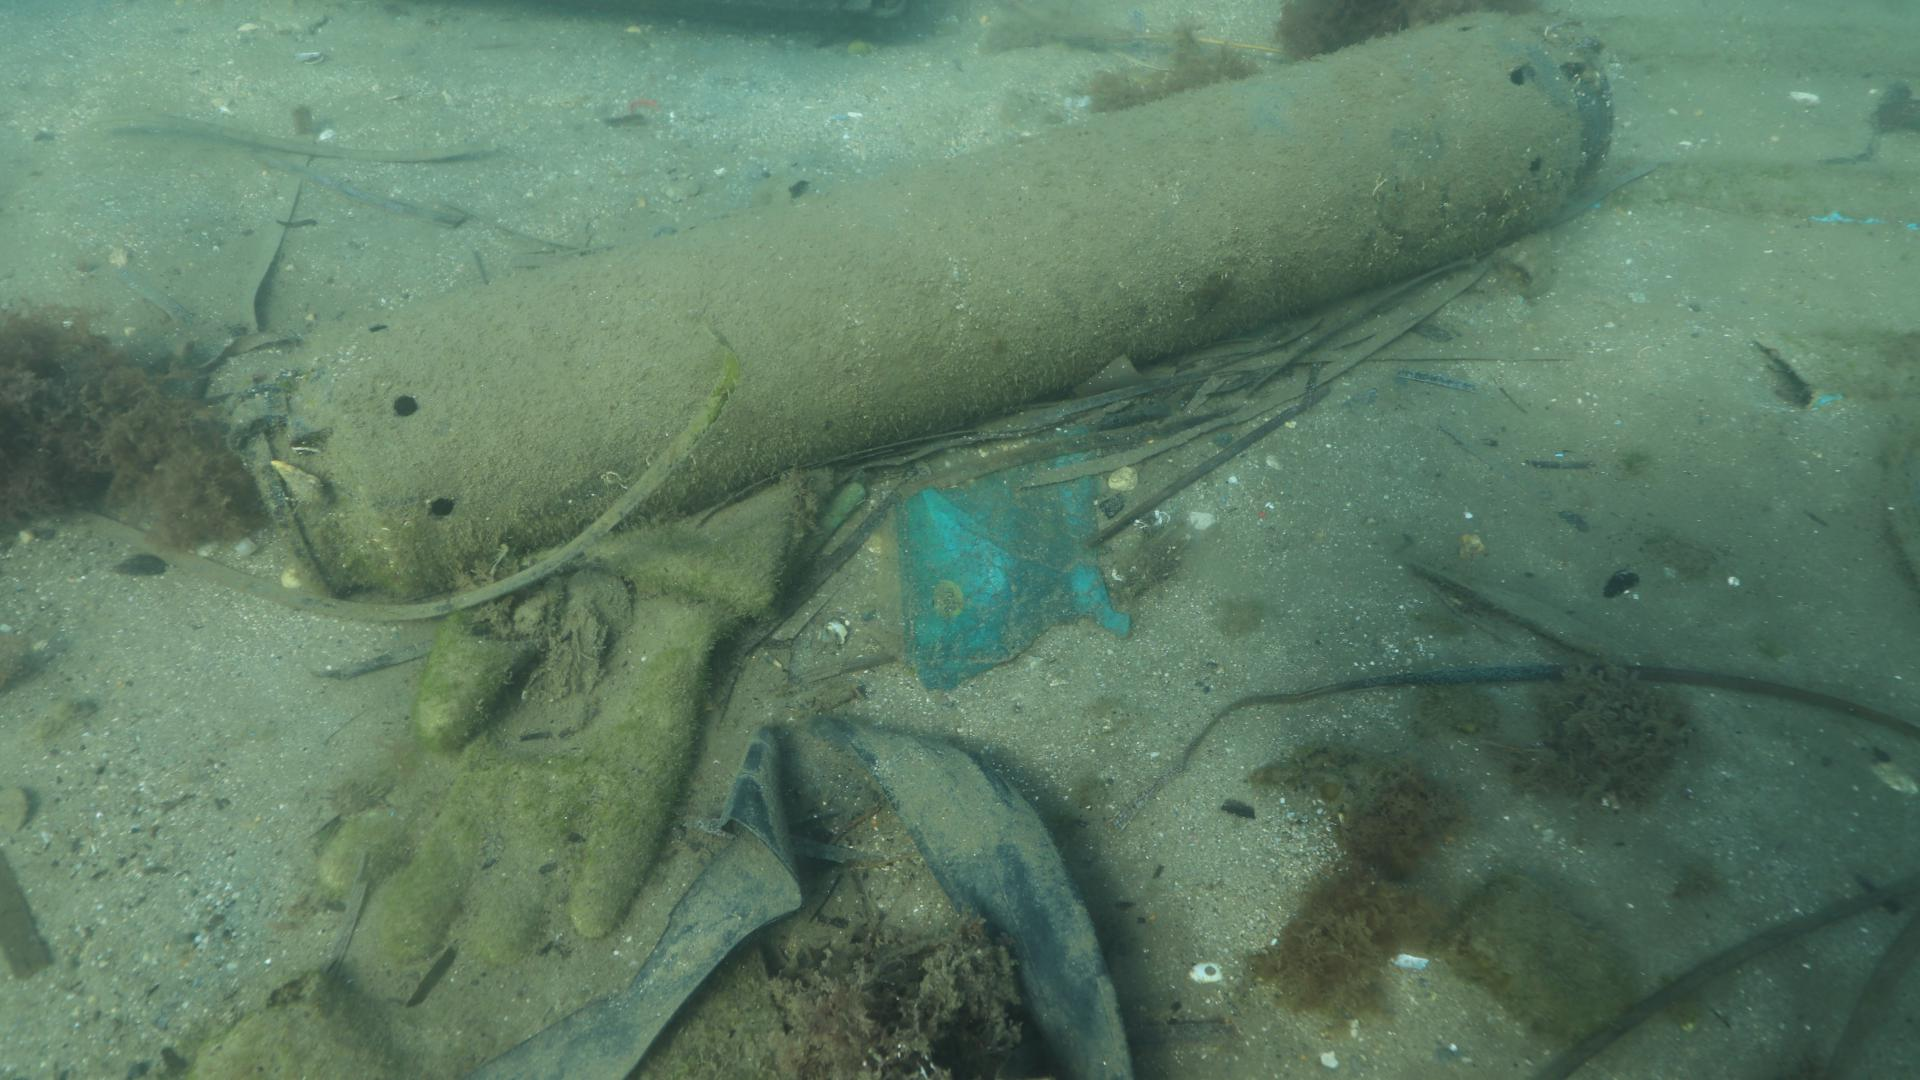eel fish trap: (231, 11, 1613, 601)
